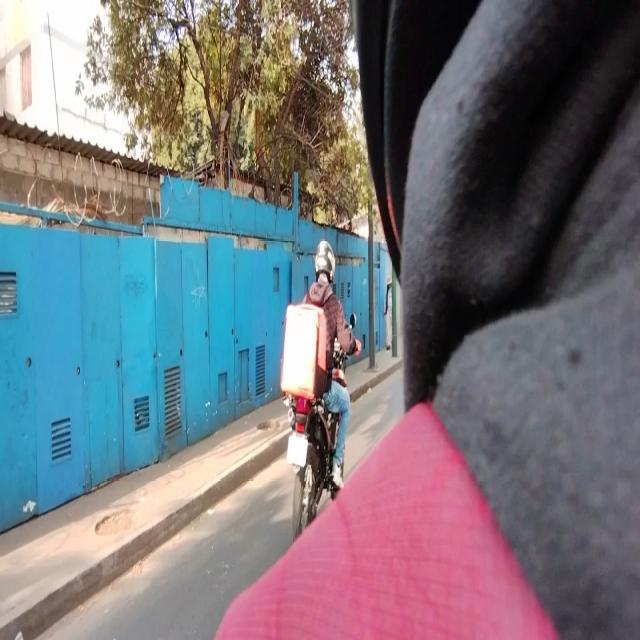adult: (305, 243, 359, 489)
